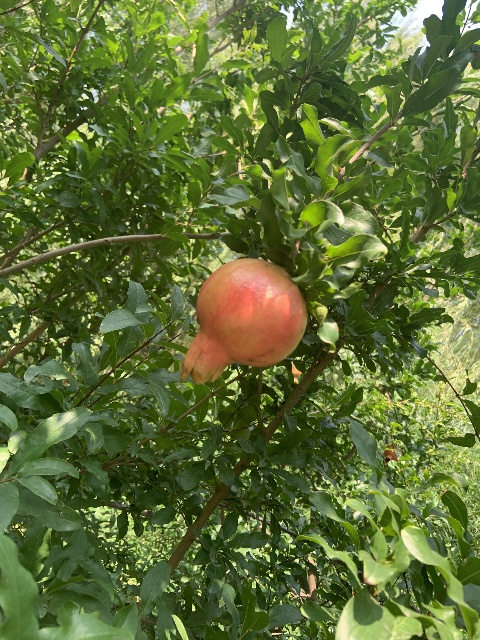ripe: (180, 258, 307, 385), (383, 444, 402, 465)
